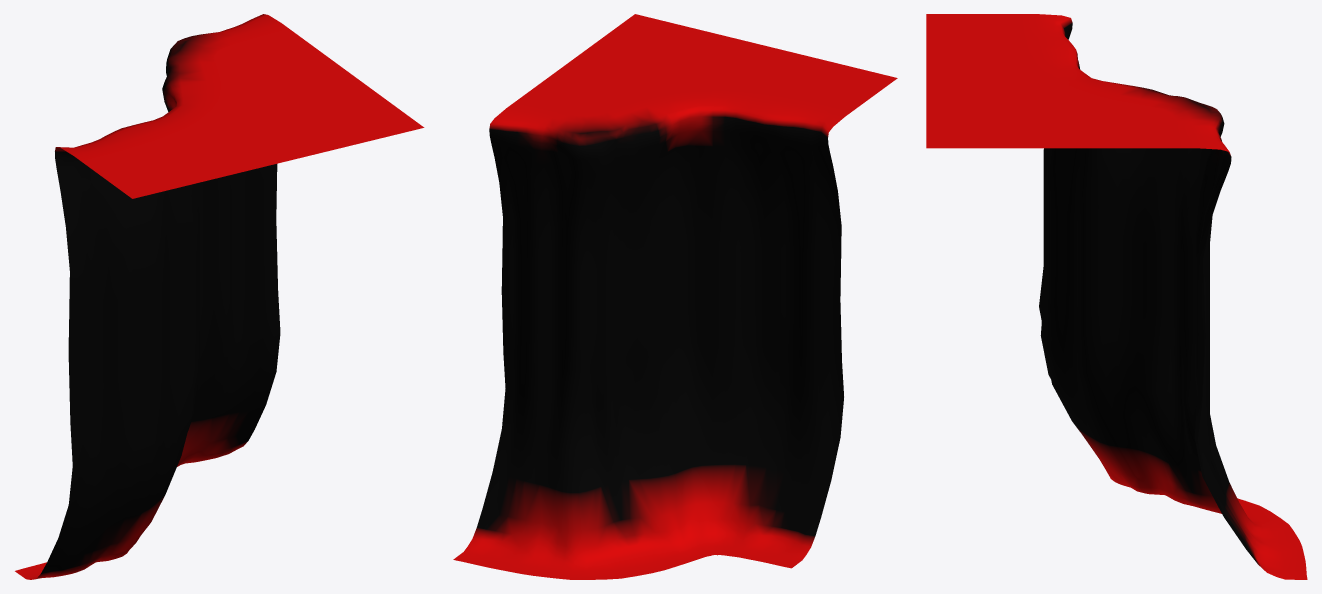
File: GroundCliff05A 3M Foreground.fbx
3 renders of one model, left to right at view 1: azimuth 30°, elevation 25°; view 2: azimuth 150°, elevation 25°; view 3: azimuth 270°, elevation 25°, orthographic. The views are drawn at different scales.
Parts seen in each view (by area): view 1: GroundCliff05A 3M Foreground; view 2: GroundCliff05A 3M Foreground; view 3: GroundCliff05A 3M Foreground.
Part boxes in pixels (<box>): GroundCliff05A 3M Foreground: <box>15,14,424,579</box>; GroundCliff05A 3M Foreground: <box>453,14,897,579</box>; GroundCliff05A 3M Foreground: <box>926,14,1307,579</box>.
Bounding box in the file's own units: 2 × 3 × 2.4.
